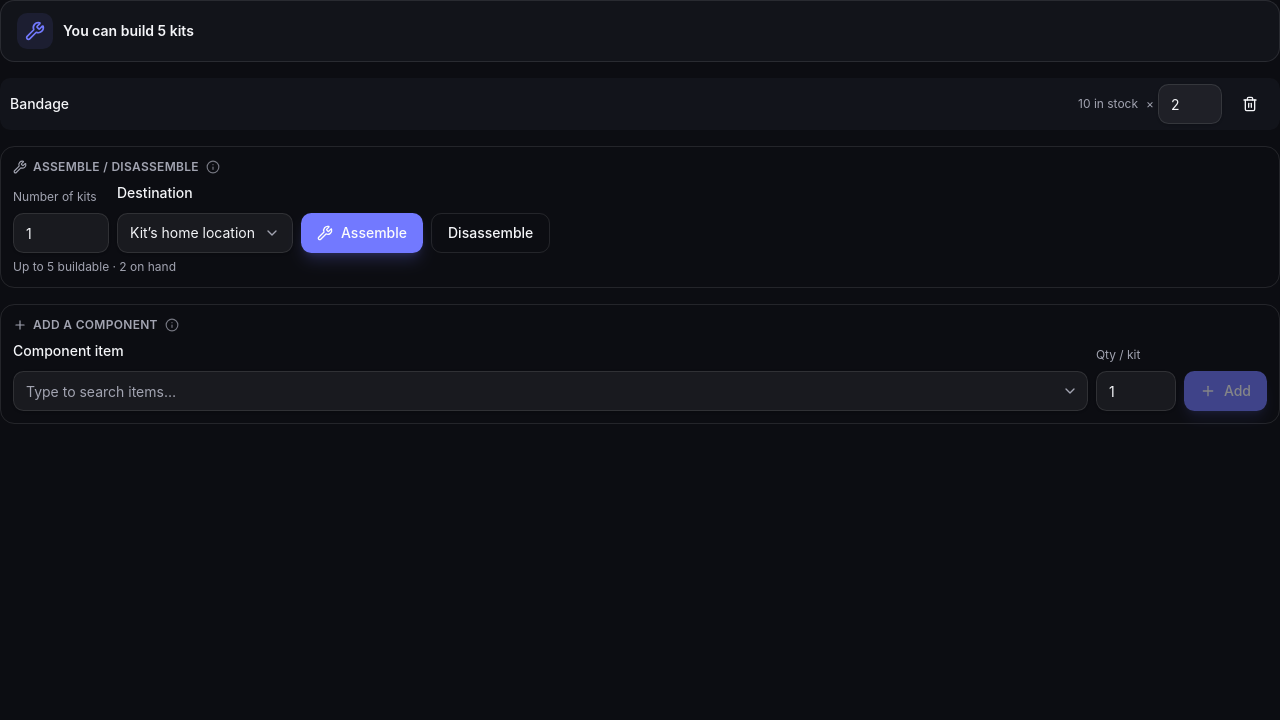
KitEditor — assemble / disassemble (v2) › disassembles the entered count, gated by the kit on-hand quantity
This screenshot has width=1280, height=720.
Note: Disassembly is capped at the 2 on hand.
Replace the text in the number field with test id "kit-build-qty" with "2" at (61, 233), box [13, 213, 109, 253]
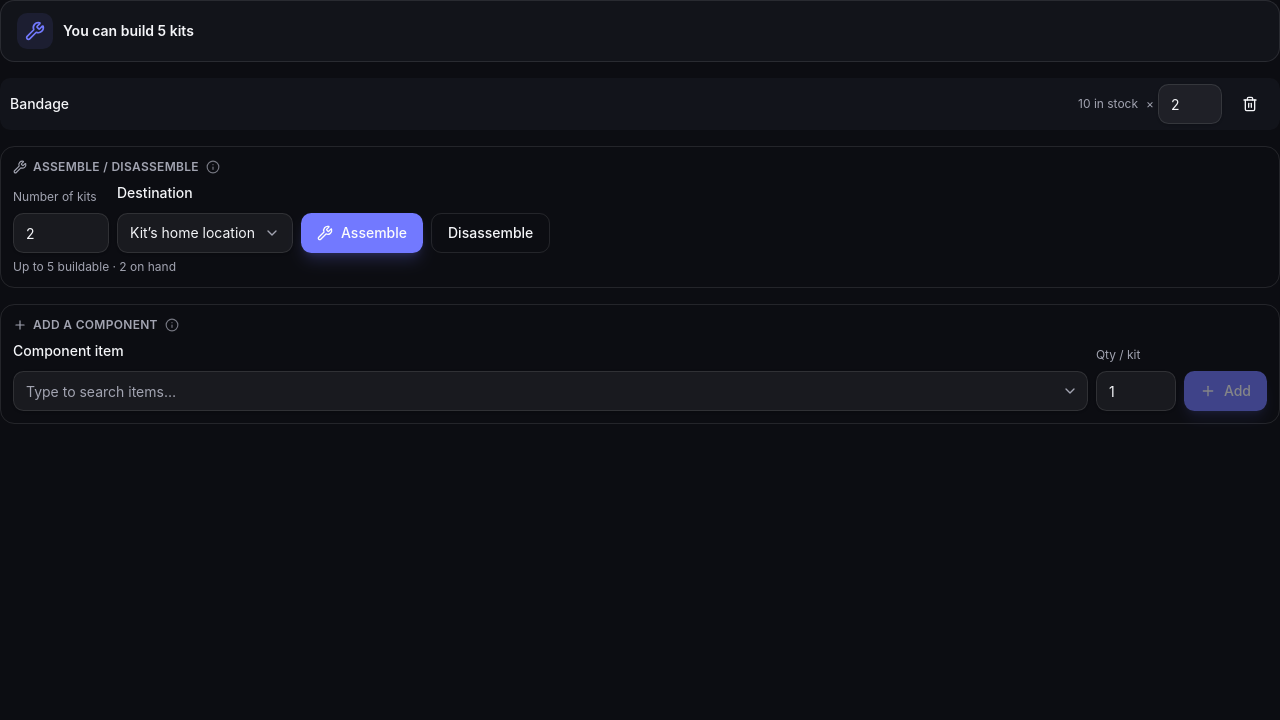
Click the button with test id "disassemble-kit" at (491, 233), box [431, 213, 550, 253]
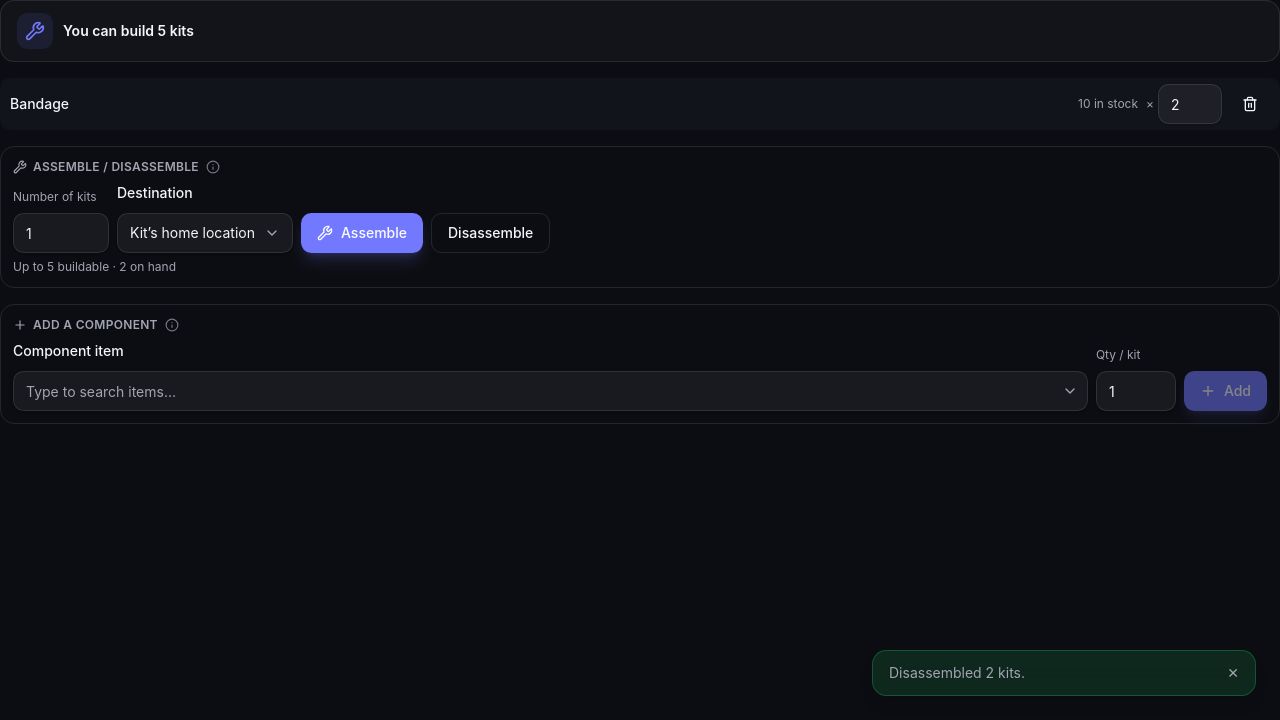
Replace the text in the number field with test id "kit-build-qty" with "3" at (61, 233), box [13, 213, 109, 253]
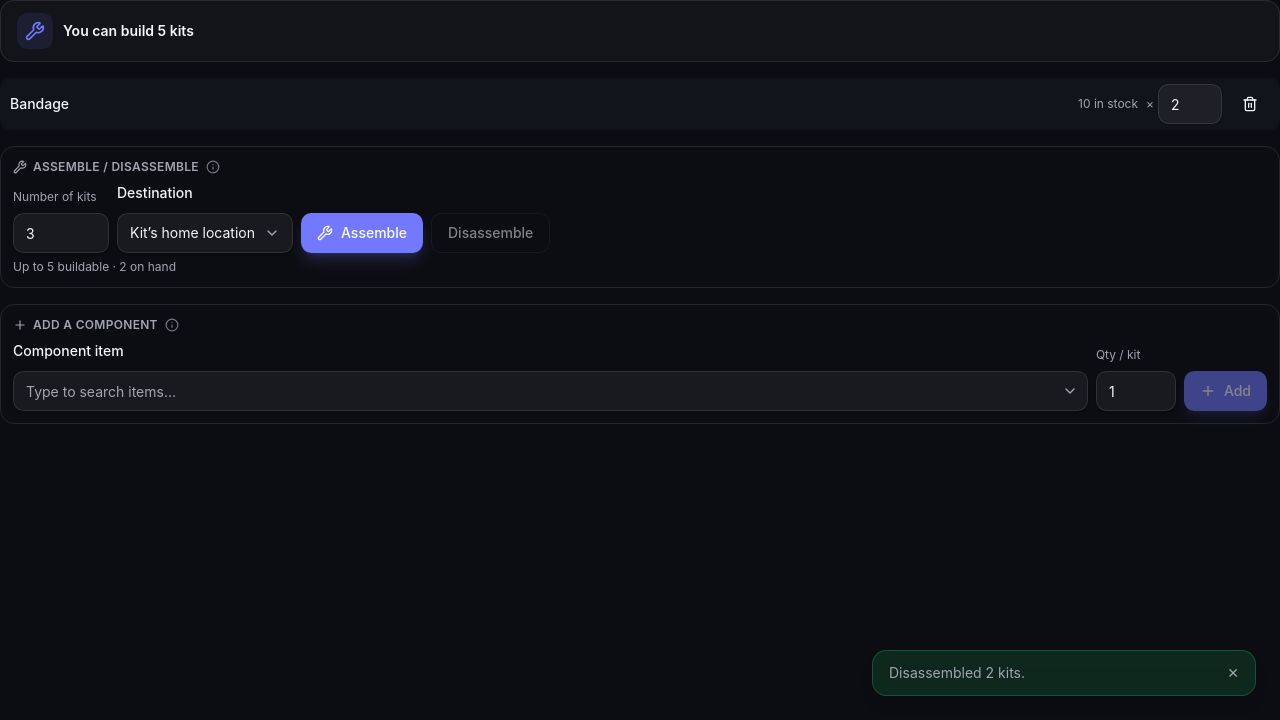
Result: the button with test id "disassemble-kit" is disabled at [431, 213, 550, 253]
